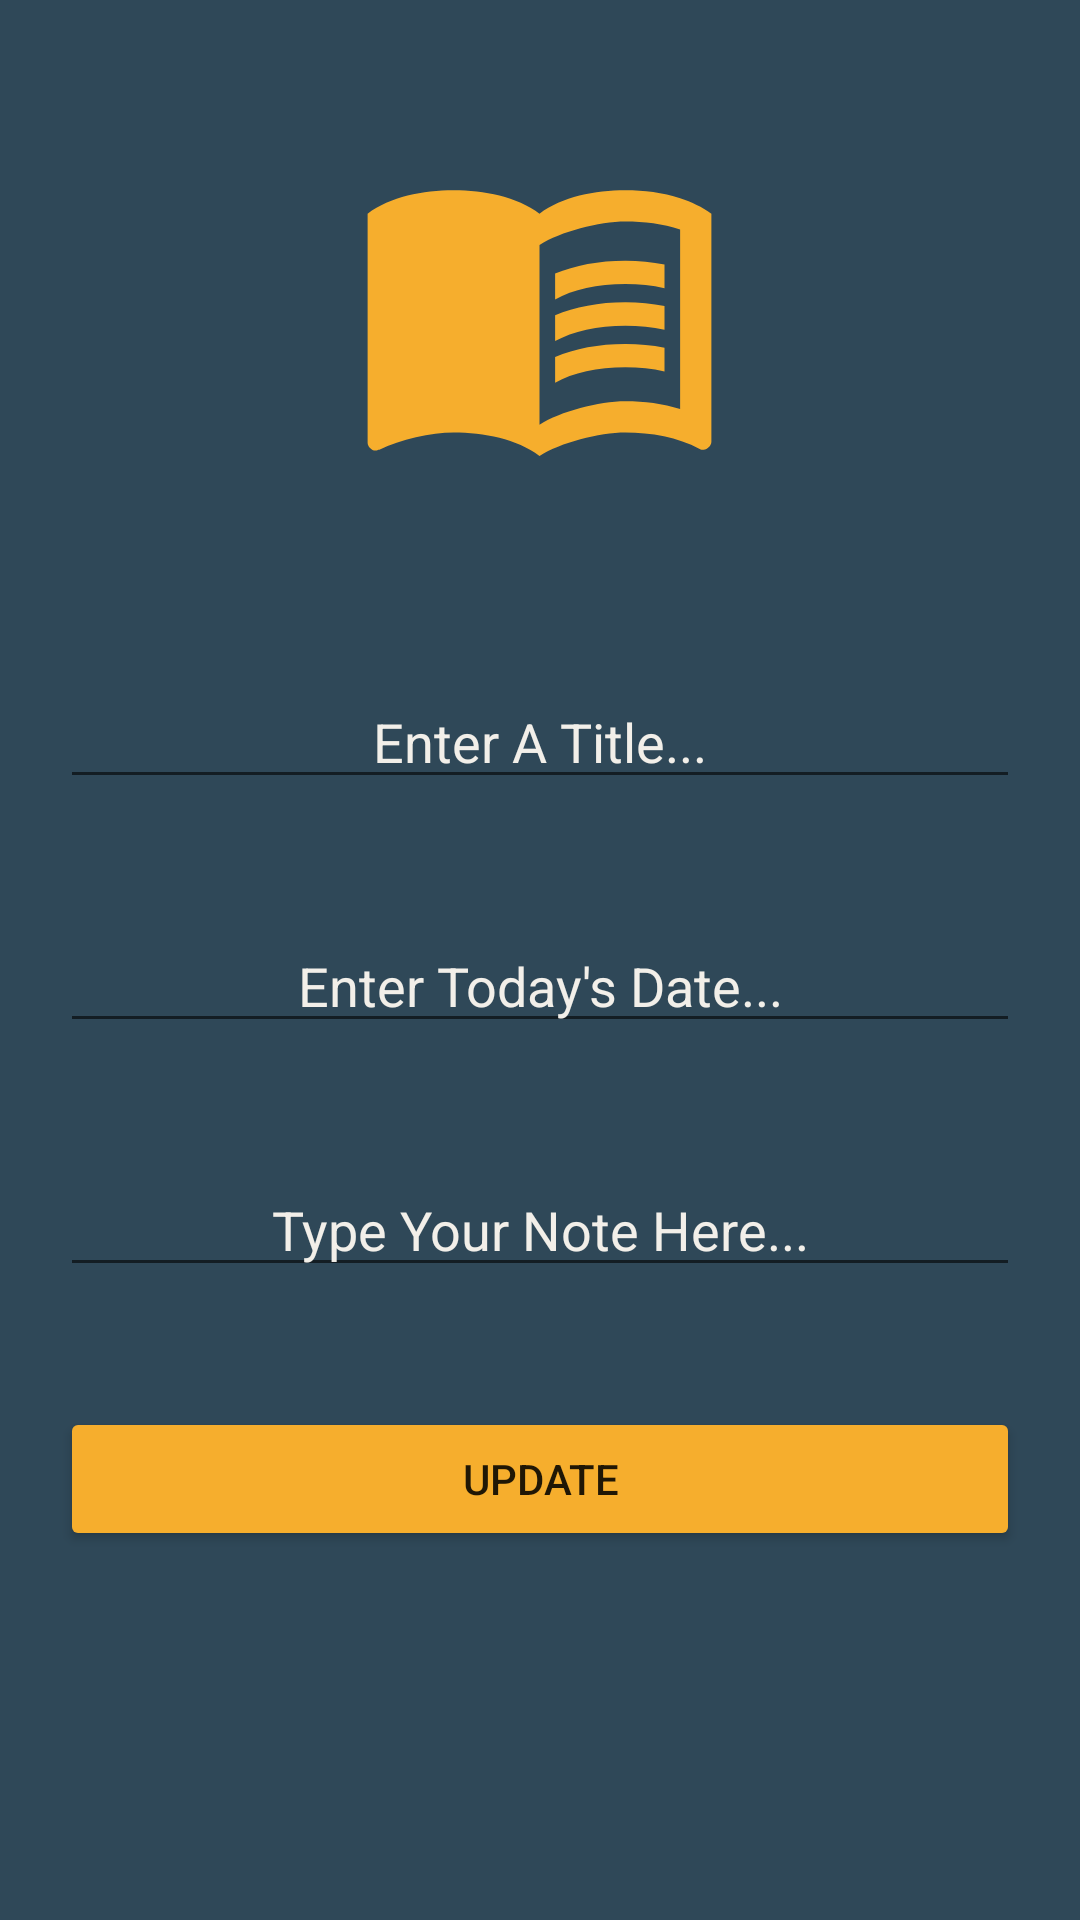

Screen size 1080×1920. Icon name, then its box in pixels as detection(x1, y1, x2, y2):
notes: detection(367, 190, 712, 456)
